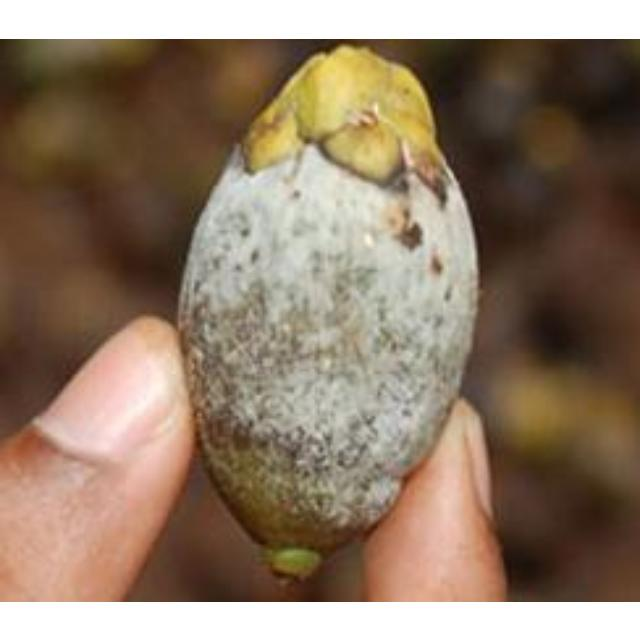damaged: (178, 43, 475, 581)
